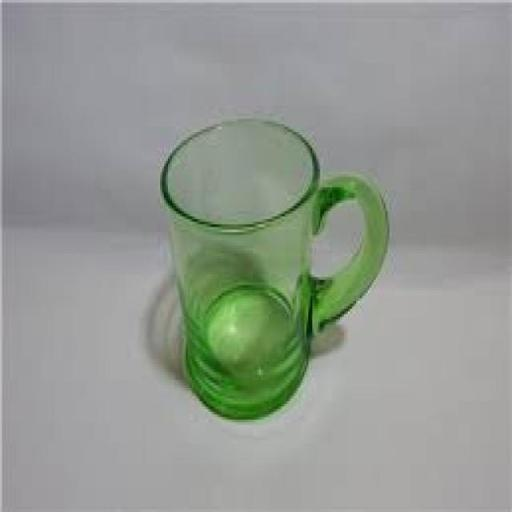glass: (152, 108, 396, 424)
